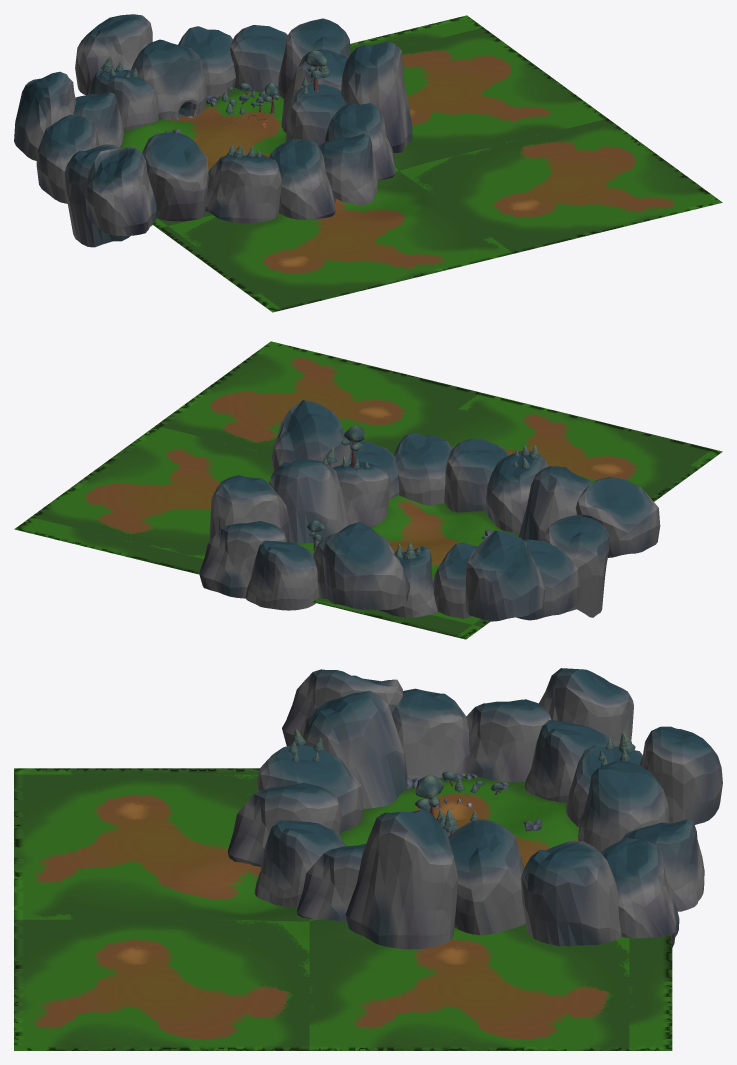
File: CaveScaled.fbx
3 renders of one model, top to bottom at view 1: azimuth 30°, elevation 25°; view 2: azimuth 150°, elevation 25°; view 3: azimuth 270°, elevation 25°, orthographic. The views are drawn at different scales.
Parts seen in each view (by area): view 1: Plane001, GeoSphere096, GeoSphere090, GeoSphere097, GeoSphere095, GeoSphere034, GeoSphere091, GeoSphere035, GeoSphere089, GeoSphere147, GeoSphere093, GeoSphere087 (+8 smaller); view 2: Plane001, GeoSphere035, GeoSphere089, GeoSphere036, GeoSphere096, GeoSphere086, GeoSphere087, GeoSphere094, GeoSphere097, GeoSphere088, GeoSphere147, GeoSphere091 (+8 smaller); view 3: Plane001, GeoSphere097, GeoSphere088, GeoSphere090, GeoSphere036, GeoSphere035, GeoSphere034, GeoSphere094, GeoSphere093, GeoSphere087, GeoSphere091, GeoSphere147 (+7 smaller).
Part boxes in pixels (x1,y1,x2,y2): Plane001: [119, 15, 722, 312]; GeoSphere096: [85, 147, 156, 236]; GeoSphere090: [142, 132, 208, 221]; GeoSphere097: [341, 41, 412, 152]; GeoSphere095: [205, 154, 281, 223]; GeoSphere034: [130, 39, 207, 120]; GeoSphere091: [269, 139, 335, 220]; GeoSphere035: [75, 14, 152, 95]; GeoSphere089: [14, 71, 75, 160]; GeoSphere147: [318, 133, 377, 205]; GeoSphere093: [36, 114, 99, 203]; GeoSphere087: [230, 25, 287, 91]; Plane001: [14, 341, 722, 639]; GeoSphere035: [322, 527, 409, 609]; GeoSphere089: [465, 530, 545, 621]; GeoSphere036: [269, 459, 349, 543]; GeoSphere096: [575, 477, 660, 557]; GeoSphere086: [245, 540, 319, 610]; GeoSphere087: [199, 521, 287, 598]; GeoSphere094: [544, 515, 609, 617]; GeoSphere097: [272, 400, 351, 472]; GeoSphere088: [209, 475, 289, 542]; GeoSphere147: [393, 432, 452, 505]; GeoSphere091: [444, 439, 509, 512]; Plane001: [14, 768, 672, 1050]; GeoSphere097: [345, 809, 457, 949]; GeoSphere088: [520, 840, 621, 946]; GeoSphere090: [303, 690, 407, 808]; GeoSphere036: [448, 819, 525, 935]; GeoSphere035: [639, 726, 722, 824]; GeoSphere034: [578, 761, 669, 852]; GeoSphere094: [391, 688, 469, 779]; GeoSphere093: [466, 699, 551, 782]; GeoSphere087: [600, 838, 679, 947]; GeoSphere091: [228, 783, 341, 866]; GeoSphere147: [254, 820, 345, 907].
Size of the model in its own units: 77694 by 19700 by 73229.
